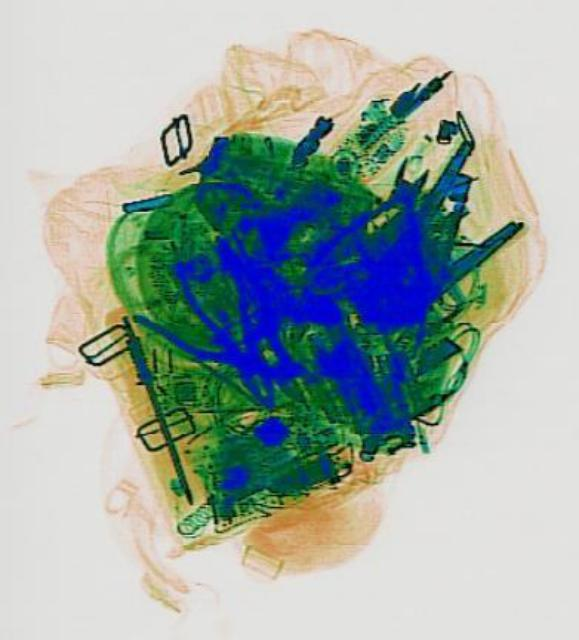Pliers: (304, 138, 469, 318), (169, 242, 292, 418)
